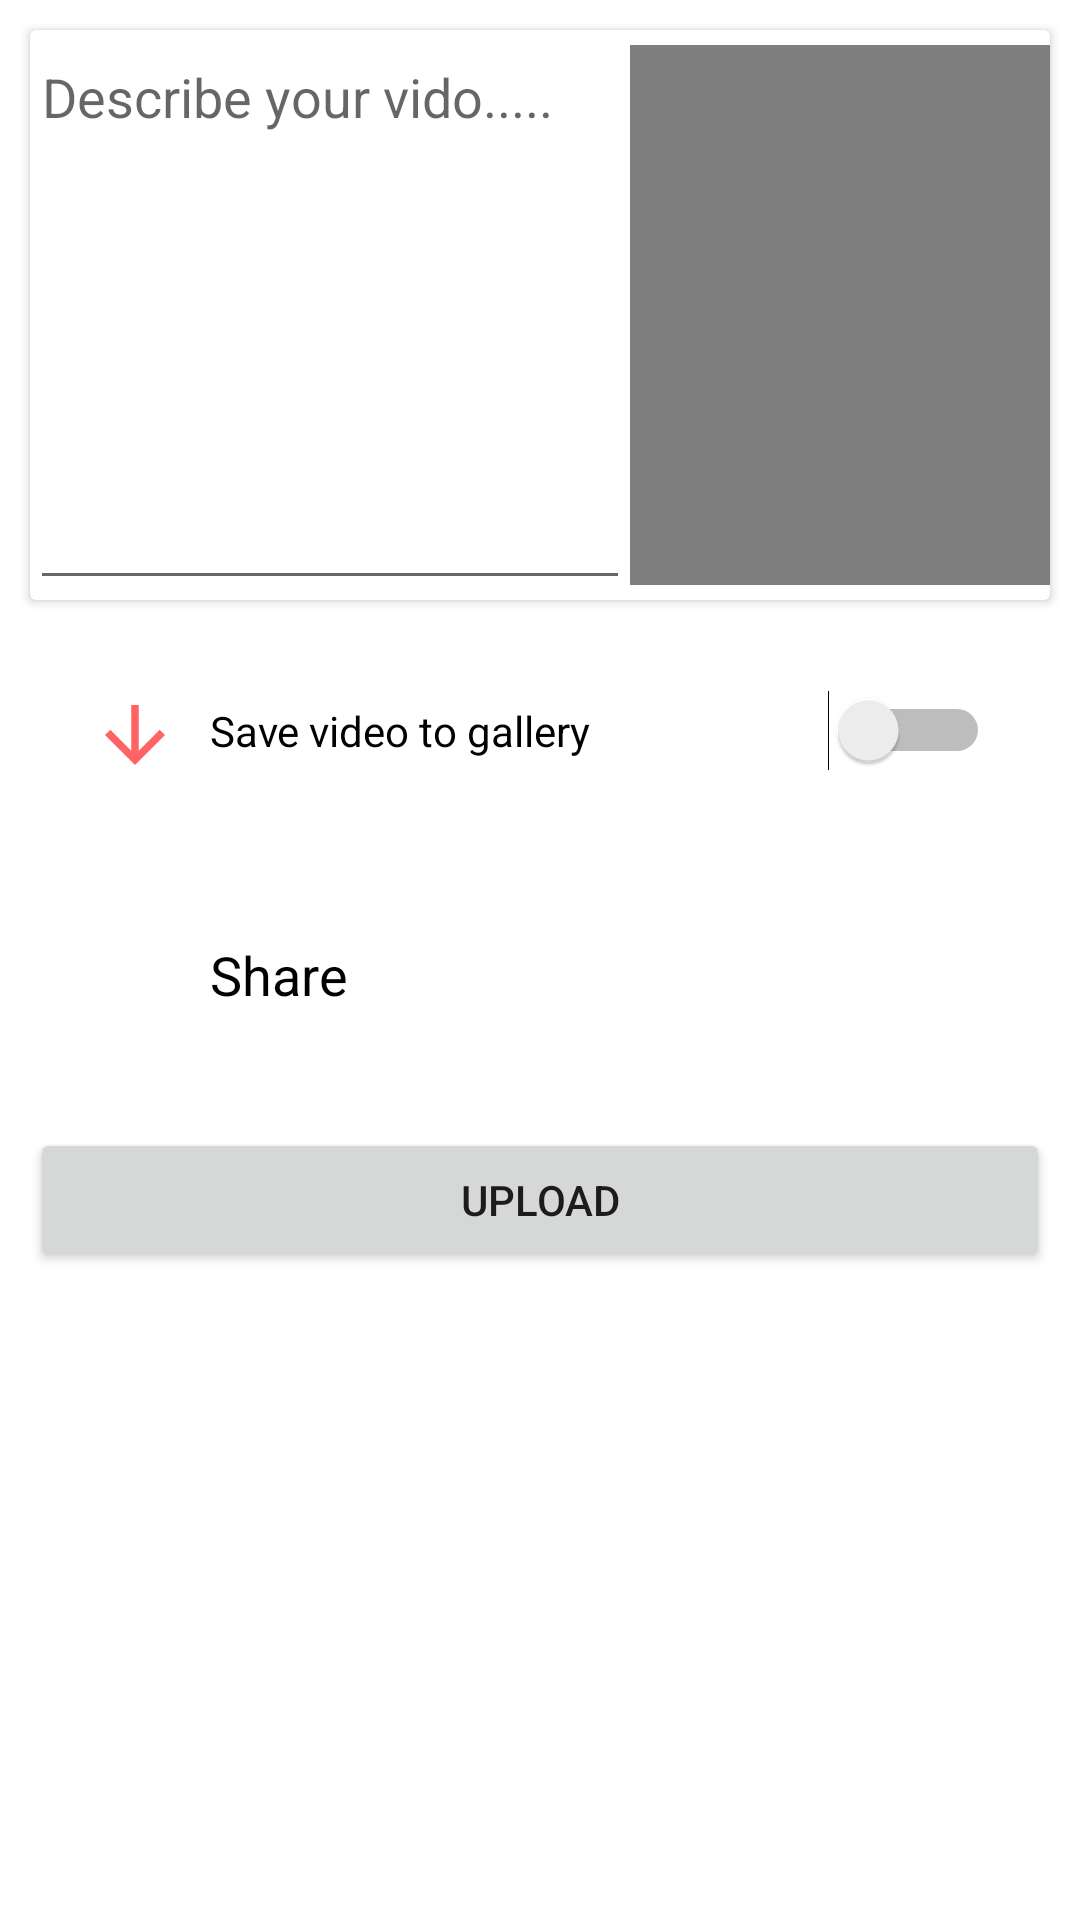

Icon click points for this 1080px x 1920px phone screenshot, format point (x, y):
downward: point (135, 735)
